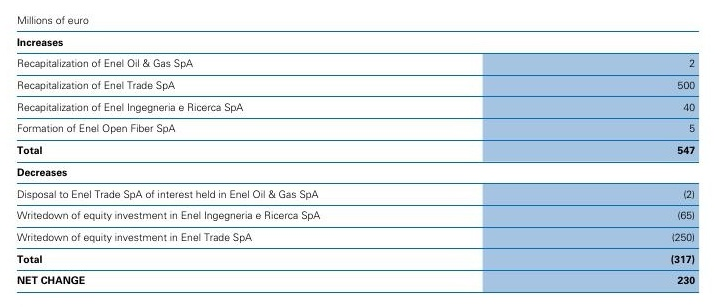table: (0, 0, 715, 307)
